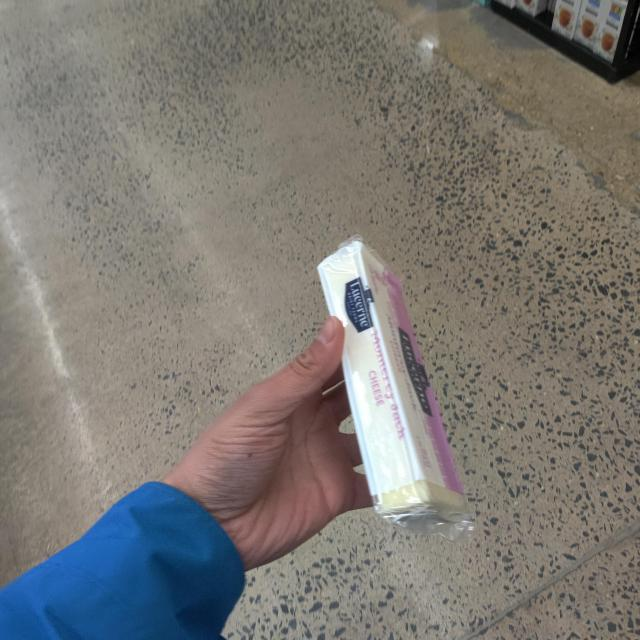Cheese: (325, 241, 472, 535)
